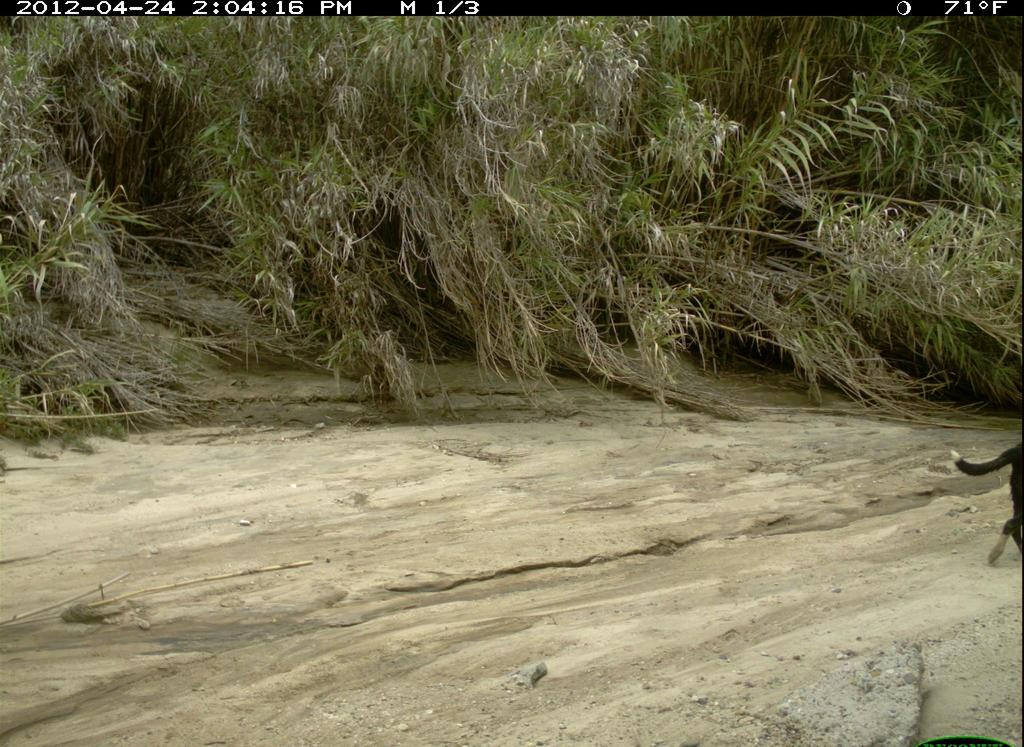dog: (944, 425, 1022, 582)
